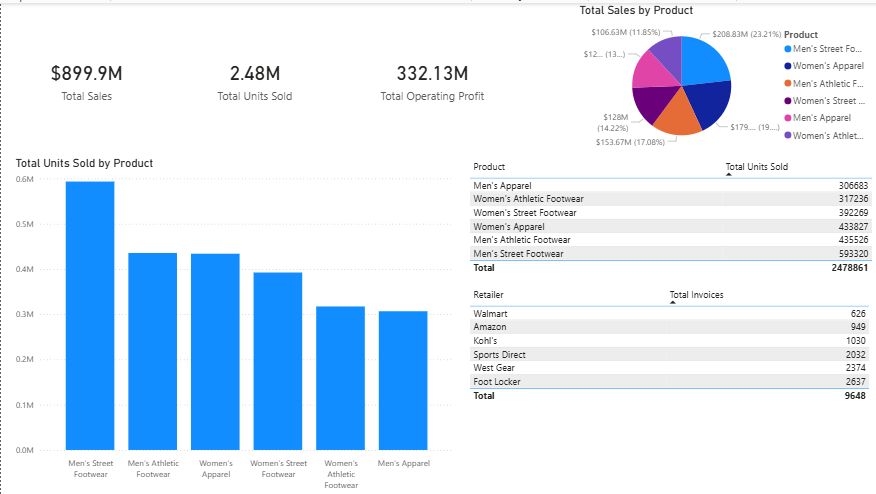

What the dashboard file says about the page in this screenshot:
{"tool":"powerbi","page":{"name":"Page 1","canvas":[1280,720],"ordinal":0},"visuals":[{"type":"columnChart","fields":{"Category":["Table 1 (Data Sales Adidas).Product"],"Y":["Sum(Table 1 (Data Sales Adidas).Units Sold)"]},"box":[16.8,223.4,651.8,497.2],"z":0},{"type":"pieChart","fields":{"Category":["Table 1 (Data Sales Adidas).Product"],"Y":["Sum(Table 1 (Data Sales Adidas).Total Sales)"]},"box":[841.6,0,438.4,223.4],"z":1000},{"type":"card","fields":{"Values":["Sum(Table 1 (Data Sales Adidas).Total Sales)"]},"box":[16.8,0,218.4,223.4],"z":2000},{"type":"card","fields":{"Values":["Sum(Table 1 (Data Sales Adidas).Units Sold)"]},"box":[235.2,0,272.1,223.4],"z":3000},{"type":"tableEx","fields":{"Values":["Table 1 (Data Sales Adidas).Product","Sum(Table 1 (Data Sales Adidas).Units Sold)"]},"box":[841.6,223.4,438.4,188.1],"z":4000},{"type":"card","fields":{"Values":["Sum(Table 1 (Data Sales Adidas).Operating Profit)"]},"box":[507.3,0,246.9,223.4],"z":5000},{"type":"tableEx","fields":{"Values":["Table 1 (Data Sales Adidas).Retailer","CountNonNull(Table 1 (Data Sales Adidas).Retailer ID)"]},"box":[841.6,411.5,435.1,210],"z":6000}]}

Visuals, with their boxes in screenshot pixels (x1, y1, x2, y2), scaled from the page's 1280x720 canvas onto the 876x494 screenshot:
columnChart - Table 1 (Data Sales Adidas).Product x Sum(Table 1 (Data Sales Adidas).Units Sold): locate(11, 153, 458, 493)
pieChart - Table 1 (Data Sales Adidas).Product x Sum(Table 1 (Data Sales Adidas).Total Sales): locate(576, 0, 875, 153)
card - Sum(Table 1 (Data Sales Adidas).Total Sales): locate(11, 0, 161, 153)
card - Sum(Table 1 (Data Sales Adidas).Units Sold): locate(161, 0, 347, 153)
tableEx - Table 1 (Data Sales Adidas).Product x Sum(Table 1 (Data Sales Adidas).Units Sold): locate(576, 153, 875, 282)
card - Sum(Table 1 (Data Sales Adidas).Operating Profit): locate(347, 0, 516, 153)
tableEx - Table 1 (Data Sales Adidas).Retailer x CountNonNull(Table 1 (Data Sales Adidas).Retailer ID): locate(576, 282, 874, 426)
